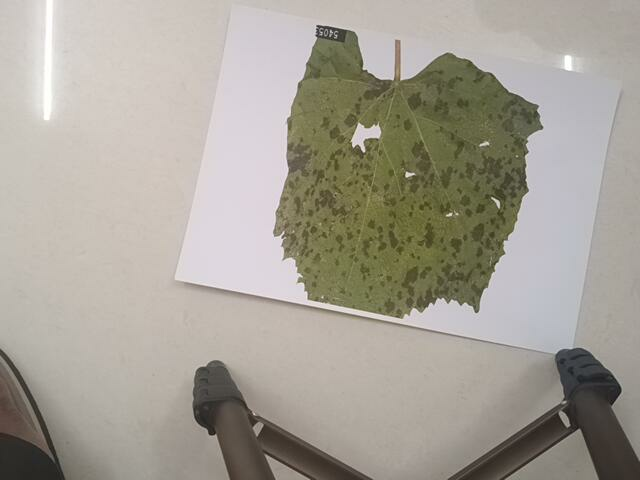Grape_Blight_Leaf: (275, 14, 539, 322)
